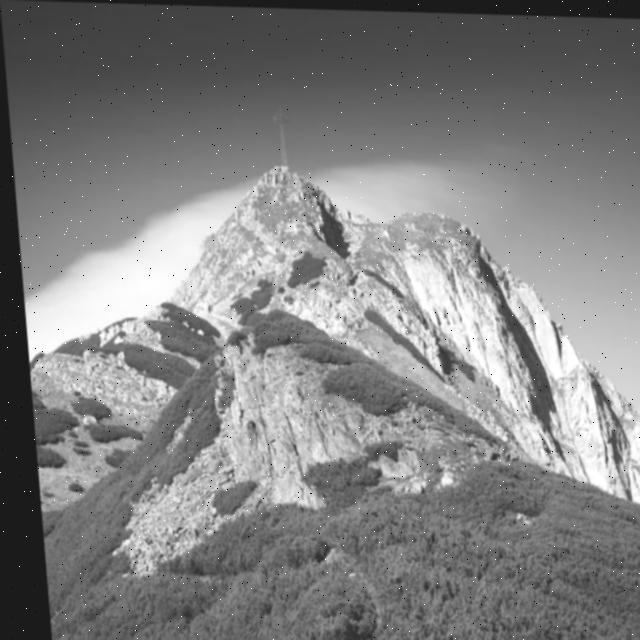Giewont: (196, 62, 370, 269)
Maly giewont: (628, 326, 640, 469)
